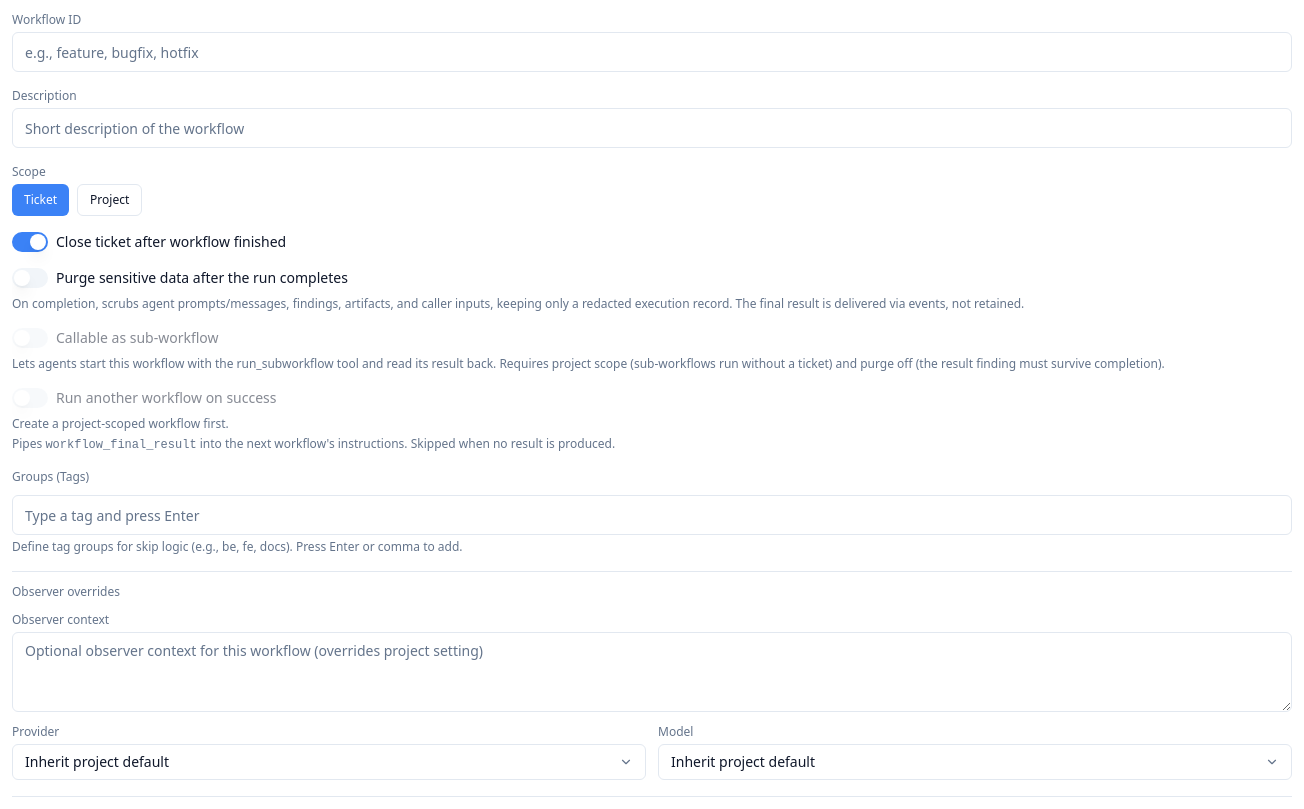
it: WorkflowDefForm › scope_type toggle › toggles to project scope
What coordinates should you click on to do the following:
click the button "Project"
I would click on:
 (110, 200)
Its box is [77,184,142,216].
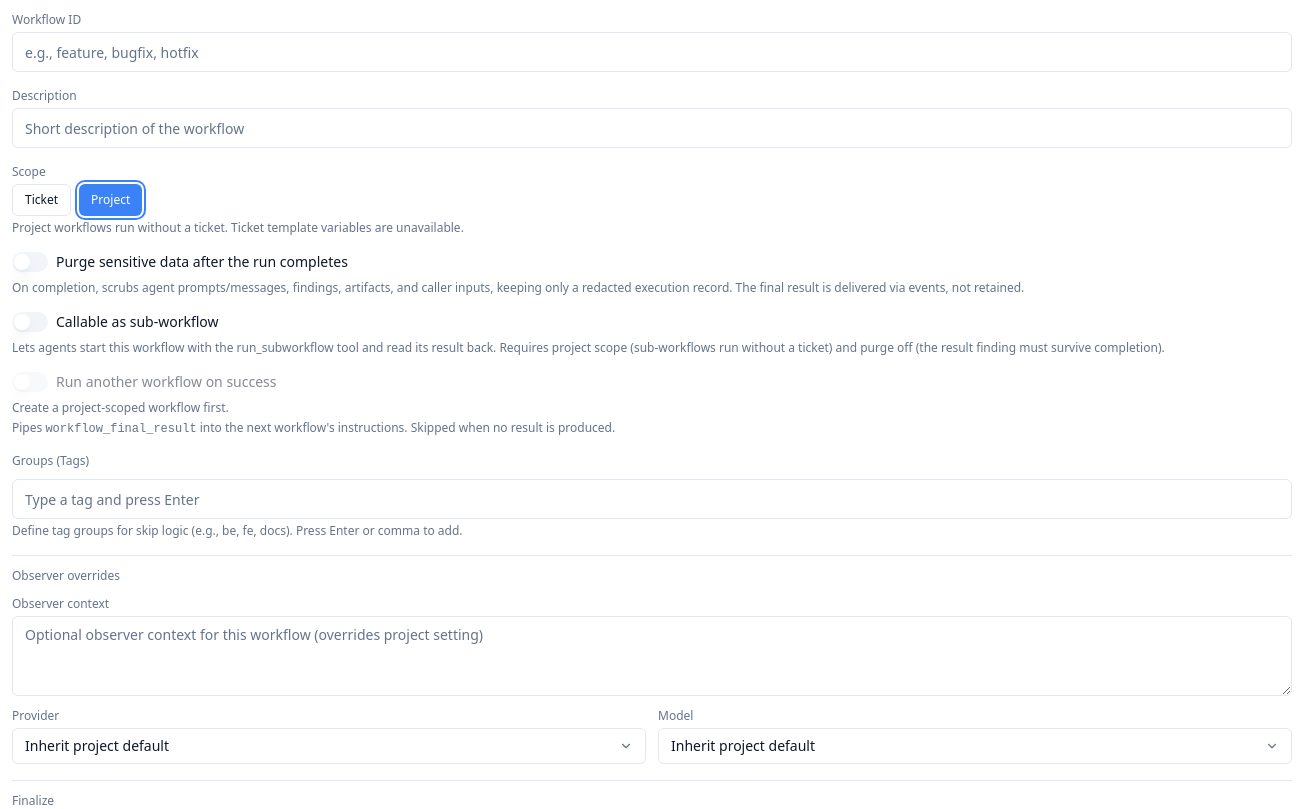
Expected: the text "Project workflows run without a ticket" is shown, [12,219,464,236]
